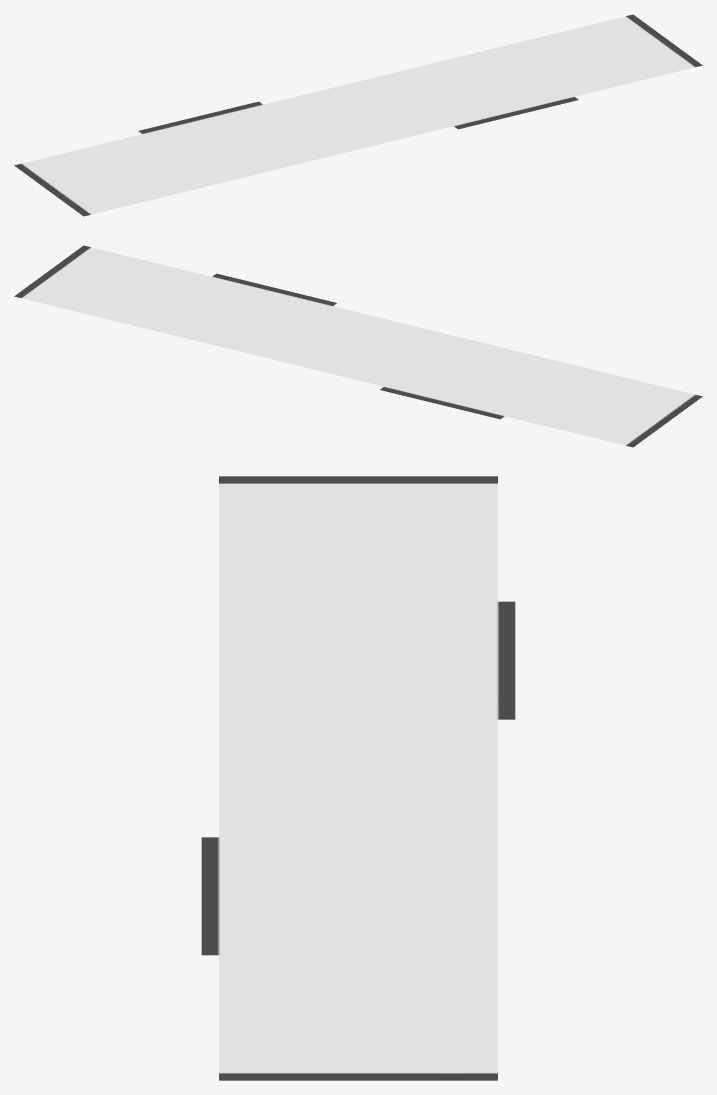
File: Hall_02_Level_02.fbx
3 views of the same model, one above another, from view 1: azimuth 30°, elevation 25°; view 2: azimuth 150°, elevation 25°; view 3: azimuth 270°, elevation 25° (orthographic). The views are drawn at different scales.
Parts seen in each view (by area): view 1: Hall_02; view 2: Hall_02; view 3: Hall_02.
Boxes of the visible parts, x1,y1,x2,y2 form: Hall_02: (14, 14, 702, 216); Hall_02: (14, 245, 702, 447); Hall_02: (201, 476, 515, 1080).
Size of the model in its own units: 4100 by 0.000244 by 900.
